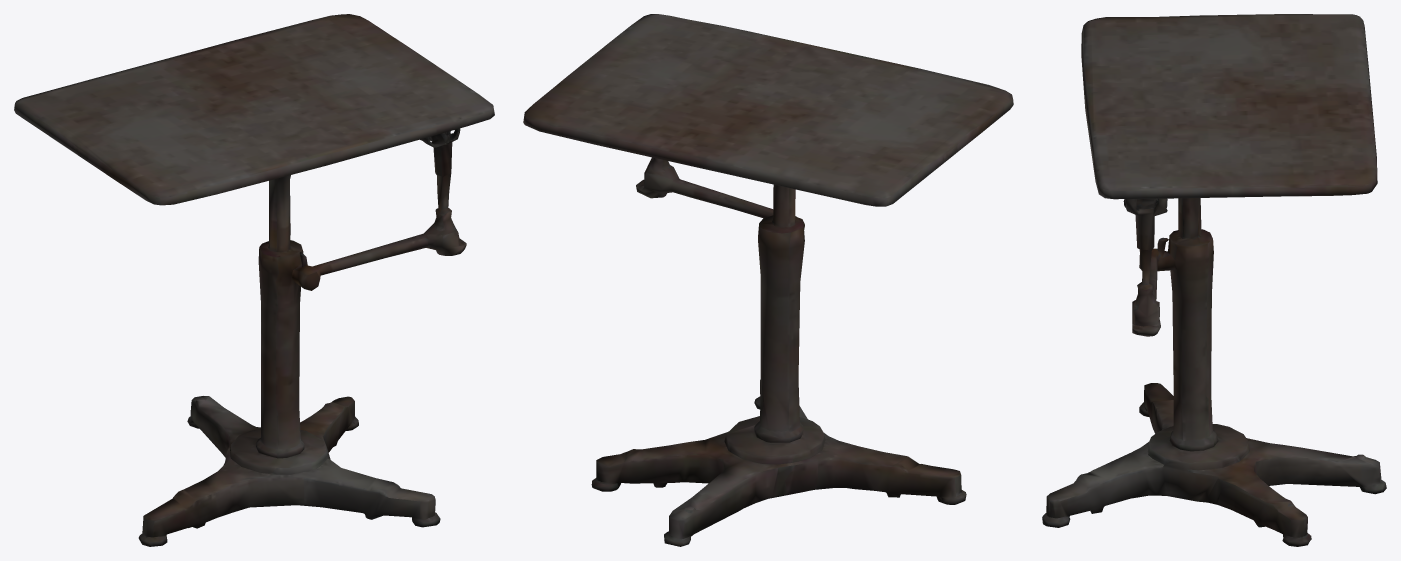
The model's file is chipped-iron-operating-table-v001.glb.
3 renders of one model, left to right at view 1: azimuth 30°, elevation 25°; view 2: azimuth 150°, elevation 25°; view 3: azimuth 270°, elevation 25°, orthographic. The views are drawn at different scales.
Parts seen in each view (by area): view 1: chipped-iron-operating-table; view 2: chipped-iron-operating-table; view 3: chipped-iron-operating-table.
Boxes of the visible parts, x1,y1,x2,y2 form: chipped-iron-operating-table: (14,14,494,546); chipped-iron-operating-table: (523,14,1013,546); chipped-iron-operating-table: (1042,14,1386,546).
Bounding box in the file's own units: 0.8557 × 0.8598 × 0.7021.
1 material, 1 textured.
